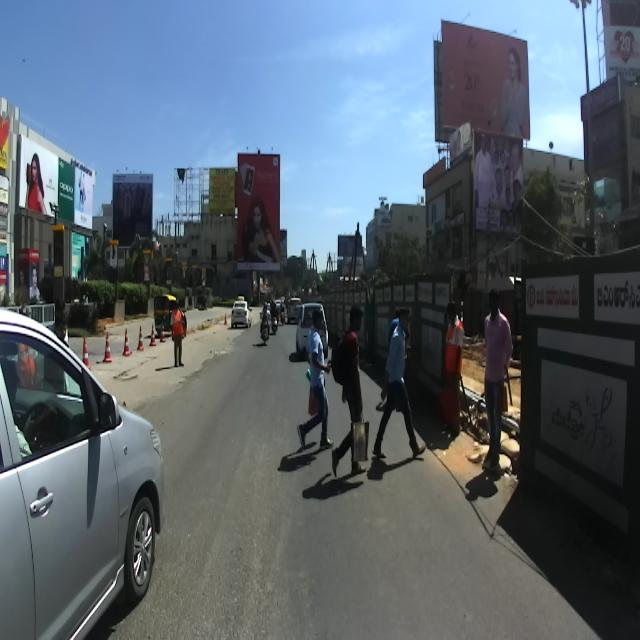car ahead at: (0, 302, 168, 639)
person ahead at: (374, 297, 428, 466), (476, 282, 516, 488)
